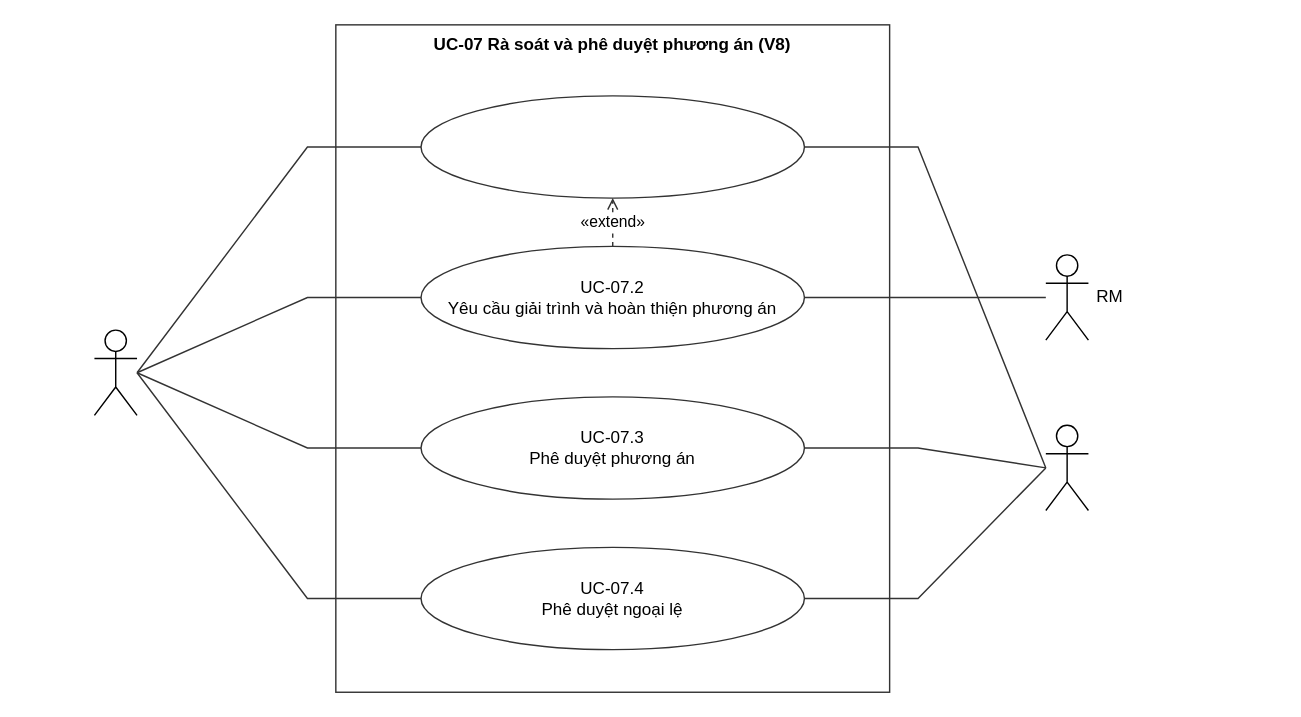
Image size: 1301x717. Some labels were removed from this diagram. Each missing label, with the centre of its shape:
CEO/Managing Director: [1066,467]
PMO/Quản lý danh mục: [115,372]
UC-07.1 Rà soát và đánh giá phương án: [612,146]
